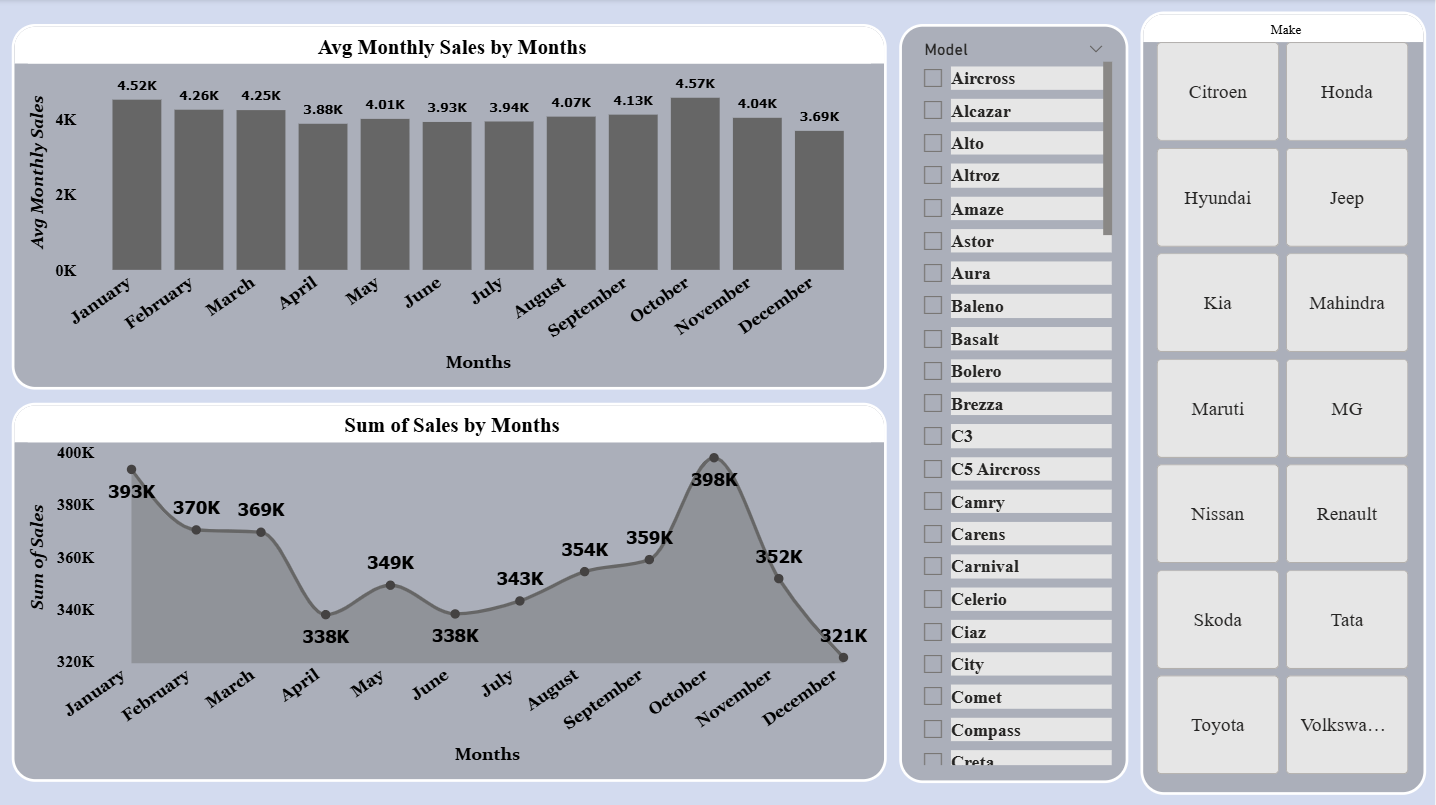

This screenshot's page, from the dashboard's own definition file:
{"tool":"powerbi","page":{"name":"Page 7","canvas":[1280,720],"ordinal":7},"visuals":[{"type":"areaChart","fields":{"Category":["Month_Table.Months"],"Y":["Sum(Table.Sales)"]},"box":[12.1,359.5,779.4,337.8],"z":0},{"type":"advancedSlicerVisual","fields":{"Values":["Table.Make"]},"box":[1017,10.9,254.6,697.3],"z":1000},{"type":"columnChart","fields":{"Category":["Month_Table.Months"],"Y":["Table.Avg Monthly Sales"]},"box":[12.1,21.7,779.4,325.7],"z":2000},{"type":"slicer","fields":{"Values":["Table.Model"]},"box":[802.3,21.7,203.9,675.6],"z":3000}]}

Visuals, with their boxes in screenshot pixels (x1, y1, x2, y2), scaled from the page's 1280x720 canvas onto the 1436x805 screenshot:
areaChart - Month_Table.Months x Sum(Table.Sales): x1=14, y1=402, x2=888, y2=780
advancedSlicerVisual - Table.Make: x1=1141, y1=12, x2=1427, y2=792
columnChart - Month_Table.Months x Table.Avg Monthly Sales: x1=14, y1=24, x2=888, y2=388
slicer - Table.Model: x1=900, y1=24, x2=1129, y2=780
